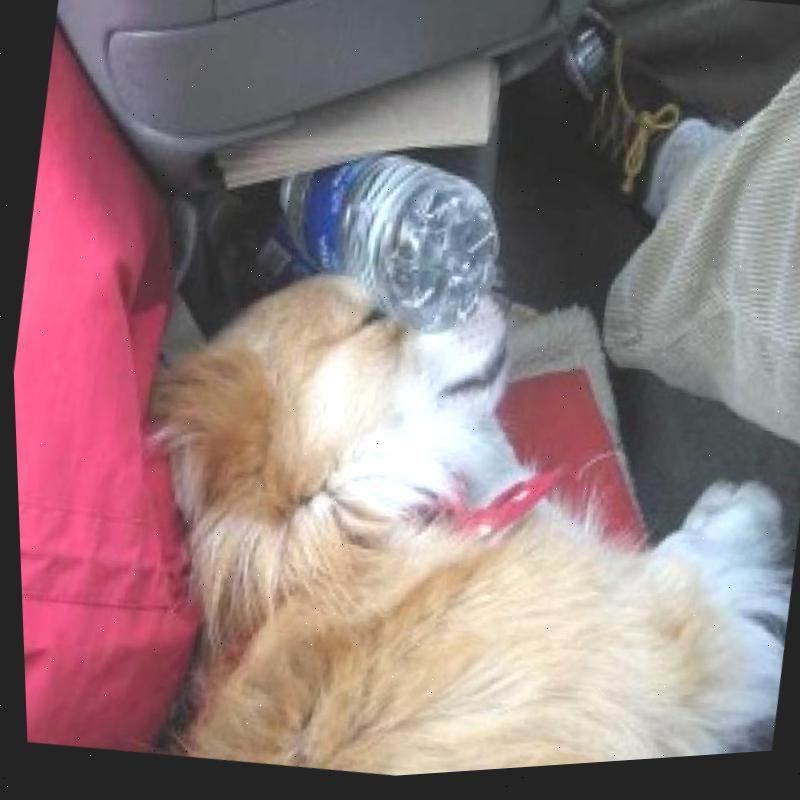botella: (254, 134, 514, 356)
